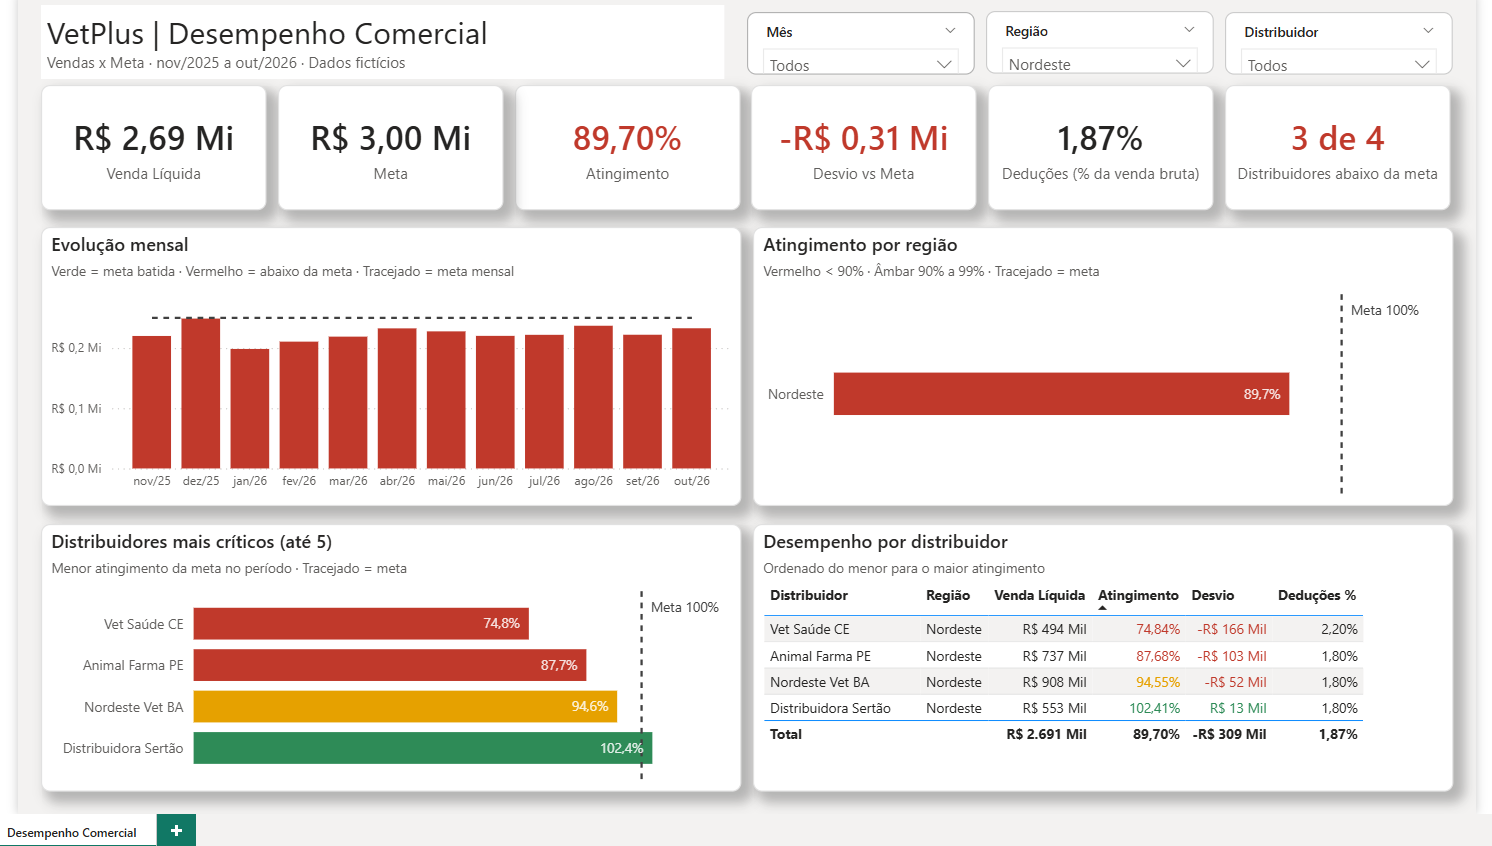

The page's visual inventory and layout, read from the dashboard file:
{"tool":"powerbi","page":{"name":"Desempenho Comercial","canvas":[1280,720],"ordinal":0},"visuals":[{"type":"card","fields":{"Values":["_Medidas.Venda Líquida R$"]},"box":[20,80,198,110],"z":0},{"type":"card","fields":{"Values":["_Medidas.Atingimento %"]},"box":[436,80,198,110],"z":1000},{"type":"card","fields":{"Values":["_Medidas.Meta R$"]},"box":[228,80,198,110],"z":2000},{"type":"card","fields":{"Values":["_Medidas.Desvio R$"]},"box":[644,80,198,110],"z":3000},{"type":"card","fields":{"Values":["_Medidas.% Deduções"]},"box":[852,80,198,110],"z":4000},{"type":"card","fields":{"Values":["_Medidas.Texto Abaixo da Meta"]},"box":[1060,80,198,110],"z":5000},{"type":"lineClusteredColumnComboChart","title":"Evolução mensal","fields":{"Category":["dCalendario.Mes Ano"],"Y":["_Medidas.Venda Líquida R$"],"Y2":["_Medidas.Meta R$"]},"box":[20,205,615,245],"z":6000},{"type":"clusteredBarChart","title":"Atingimento por região","fields":{"Category":["dDistribuidores.Regiao"],"Y":["_Medidas.Atingimento %"]},"box":[645,205,615,245],"z":7000},{"type":"clusteredBarChart","title":"Distribuidores mais críticos (até 5)","fields":{"Category":["dDistribuidores.Distribuidor"],"Y":["_Medidas.Atingimento %"]},"box":[20,465,615,235.4],"z":8000},{"type":"tableEx","title":"Desempenho por distribuidor","fields":{"Values":["dDistribuidores.Distribuidor","dDistribuidores.Regiao","_Medidas.Venda Líquida R$","_Medidas.Atingimento %","_Medidas.Desvio R$","_Medidas.% Deduções"]},"box":[645,465,615,235],"z":9000},{"type":"slicer","fields":{"Values":["dDistribuidores.Regiao"]},"box":[850,15,200,55],"z":10000},{"type":"slicer","title":"Mês","fields":{"Values":["dCalendario.Mes Ano"]},"box":[640,15.6,200,55],"z":11000},{"type":"slicer","title":"Mês","fields":{"Values":["dDistribuidores.Distribuidor"]},"box":[1060,15.6,200,55.4],"z":12000},{"type":"textbox","box":[20,10,600,65],"z":13000}]}

Visuals, with their boxes on the page's 1280x720 design canvas (x1, y1, x2, y2). These are canvas units, not pixel positions in the 1492x846 screenshot, which may show the page scaled, cropped or inside an application window:
card - _Medidas.Venda Líquida R$: locate(20, 80, 218, 190)
card - _Medidas.Atingimento %: locate(436, 80, 634, 190)
card - _Medidas.Meta R$: locate(228, 80, 426, 190)
card - _Medidas.Desvio R$: locate(644, 80, 842, 190)
card - _Medidas.% Deduções: locate(852, 80, 1050, 190)
card - _Medidas.Texto Abaixo da Meta: locate(1060, 80, 1258, 190)
"Evolução mensal" lineClusteredColumnComboChart: locate(20, 205, 635, 450)
"Atingimento por região" clusteredBarChart: locate(645, 205, 1260, 450)
"Distribuidores mais críticos (até 5)" clusteredBarChart: locate(20, 465, 635, 700)
"Desempenho por distribuidor" tableEx: locate(645, 465, 1260, 700)
slicer - dDistribuidores.Regiao: locate(850, 15, 1050, 70)
"Mês" slicer: locate(640, 16, 840, 71)
"Mês" slicer: locate(1060, 16, 1260, 71)
textbox: locate(20, 10, 620, 75)
